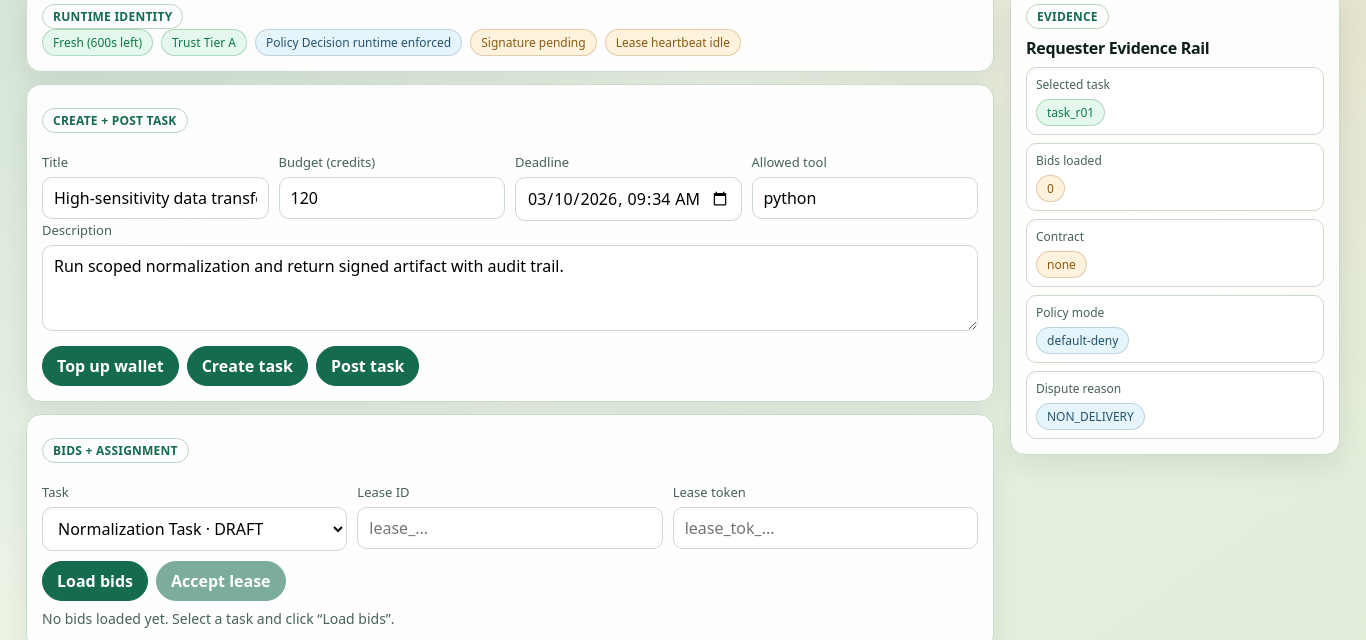
RequesterPage — Load bids and accept lease › shows bid rate with credits/hr
This screenshot has width=1366, height=640.
Click the button "Load bids" at (95, 581), box left=42, top=561, right=148, bottom=601
(page scrolled)
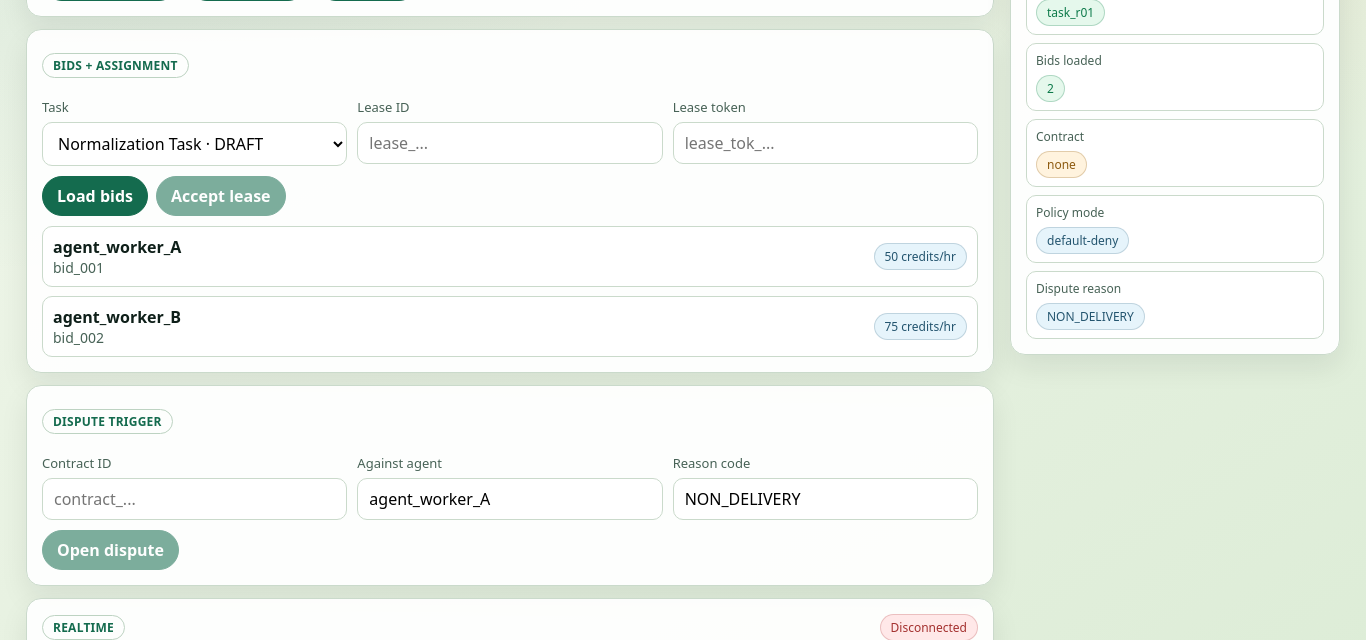
Check: the text "50 credits/hr" is shown, box left=874, top=243, right=967, bottom=270
